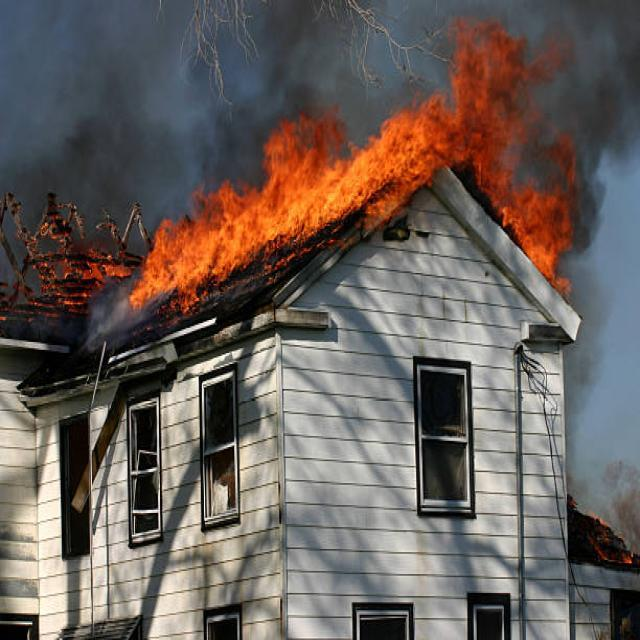Fire: (474, 30, 574, 254), (149, 158, 309, 280), (322, 104, 501, 195)
Smoke: (73, 6, 454, 187), (27, 83, 160, 311), (531, 0, 640, 204)
